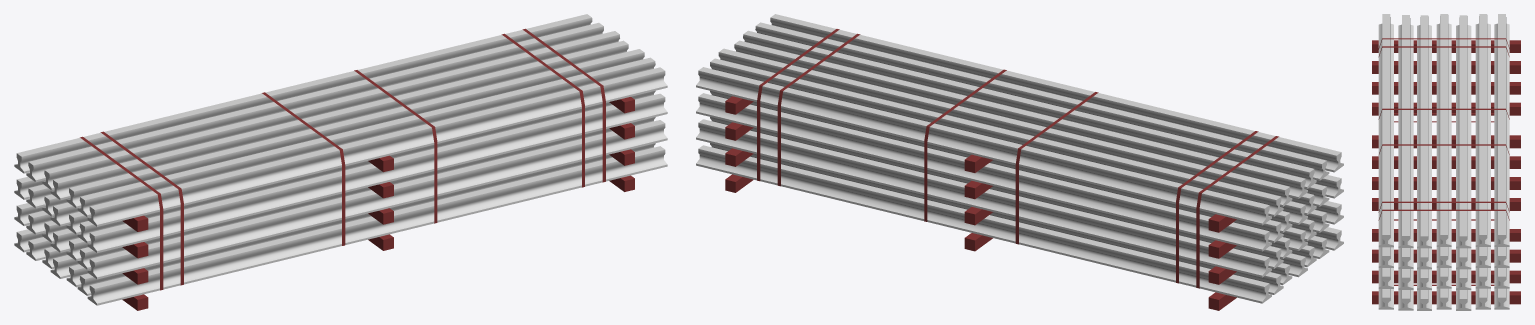
Rendered from SM_RailsPack01.fbx.
The picture shows the model from 3 angles, left to right: view 1: azimuth 30°, elevation 25°; view 2: azimuth 150°, elevation 25°; view 3: azimuth 270°, elevation 25°; orthographic projection. The views are drawn at different scales.
Parts seen in each view (by area): view 1: RailsPack01Constr, RailsPack01Beams; view 2: RailsPack01Constr, RailsPack01Beams; view 3: RailsPack01Constr, RailsPack01Beams.
Part boxes in pixels (<box>): RailsPack01Constr: <box>14,14,667,305</box>; RailsPack01Beams: <box>80,28,634,310</box>; RailsPack01Constr: <box>696,14,1343,303</box>; RailsPack01Beams: <box>725,29,1278,310</box>; RailsPack01Constr: <box>1378,14,1509,310</box>; RailsPack01Beams: <box>1372,38,1520,304</box>.
Bounding box in the file's own units: 597 × 105 × 169.
